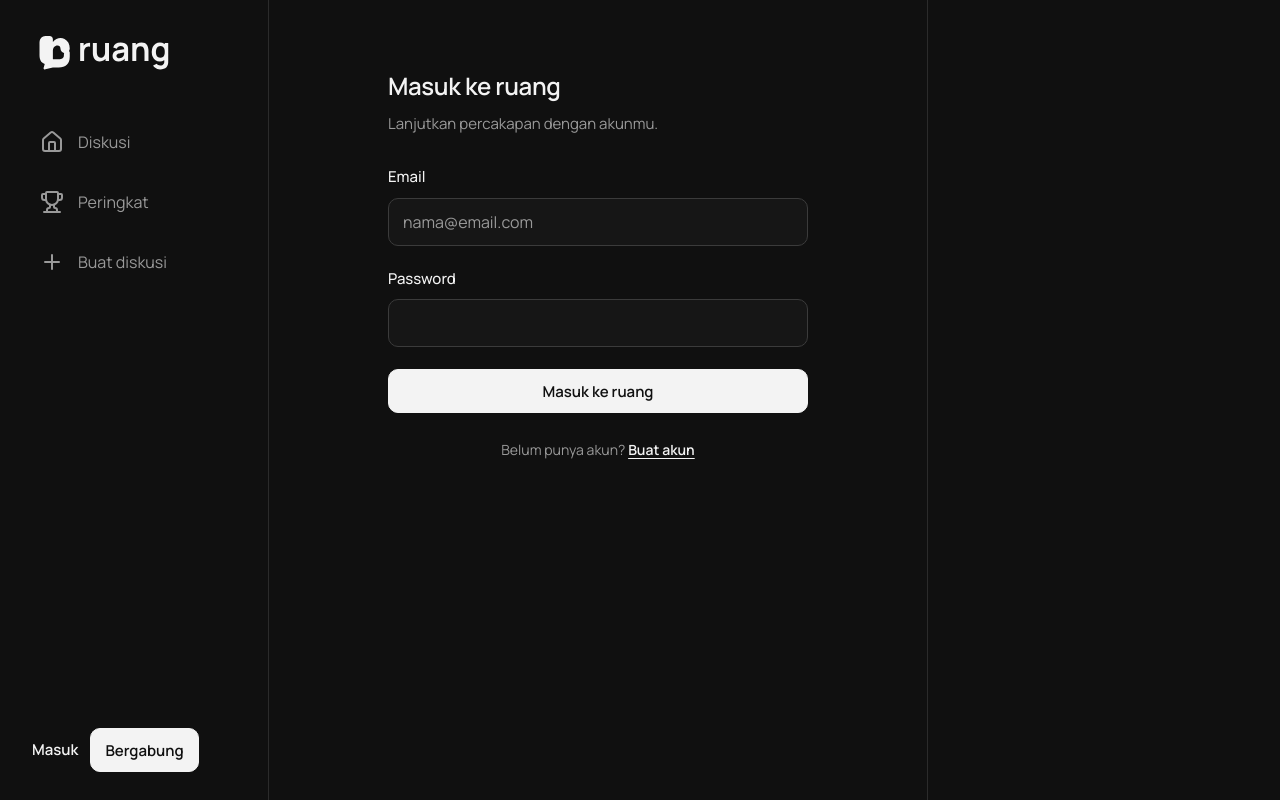
Scenario: alur login Ruang Diskusi › menolak form kosong tanpa menghubungi login API
The width and height of the screenshot is (1280, 800).
Step 1. Click the submit button → (598, 391), box [388,369,808,413]
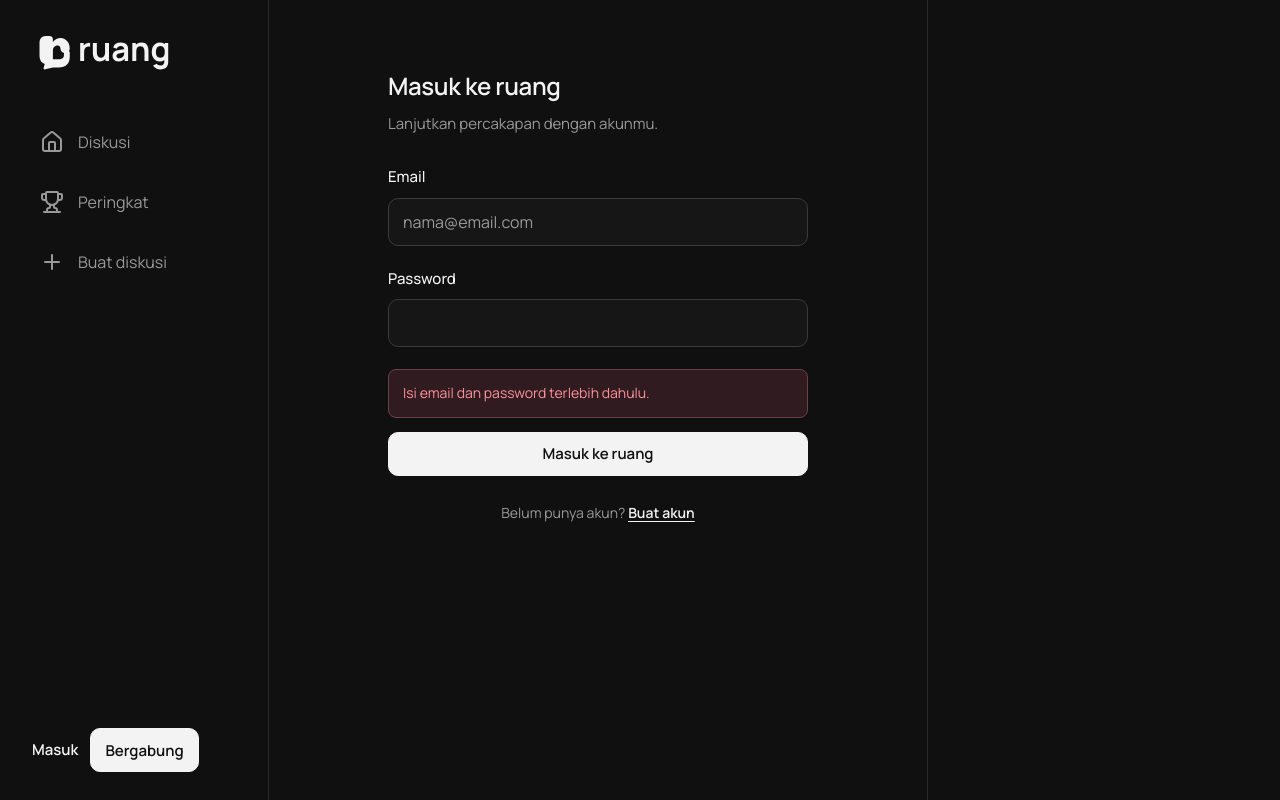
Now the message "Isi email dan password terlebih dahulu." is shown, box [388,369,808,418]
